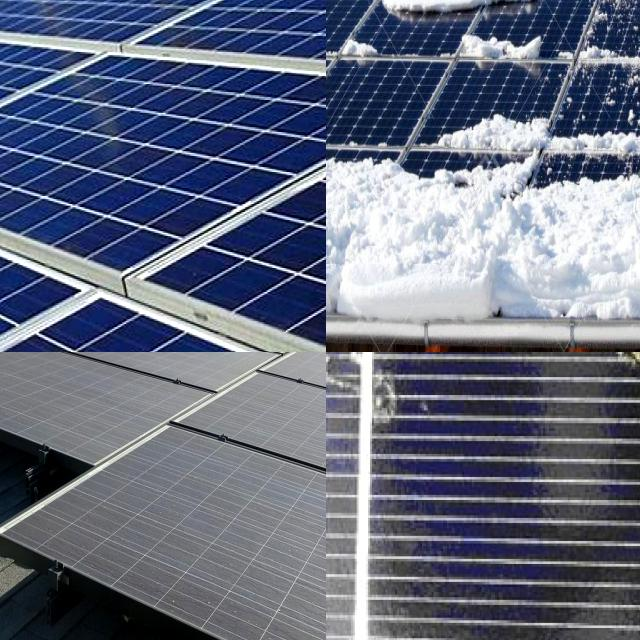crack: (0, 9, 326, 316), (0, 0, 181, 214), (0, 278, 326, 352), (0, 0, 324, 58)
dust: (160, 411, 326, 610), (0, 352, 109, 444), (115, 352, 228, 379), (286, 352, 321, 409), (233, 352, 326, 367)
panel: (432, 97, 566, 230), (326, 107, 432, 256), (369, 0, 445, 89), (573, 0, 640, 95), (477, 0, 568, 58), (590, 107, 640, 212), (454, 24, 556, 71), (339, 31, 409, 78), (576, 0, 631, 59), (326, 0, 384, 55), (452, 0, 478, 52), (326, 0, 383, 20)
shadow: (326, 352, 425, 435)
